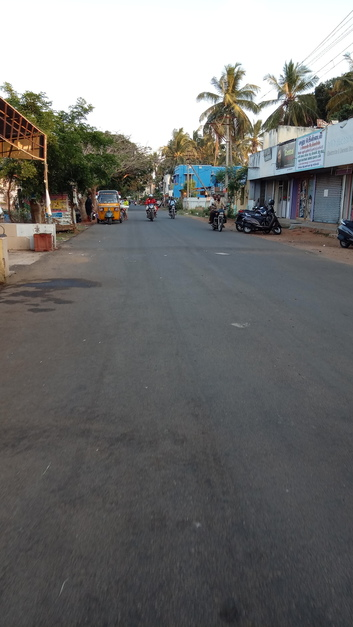bump: (49, 244, 313, 257)
